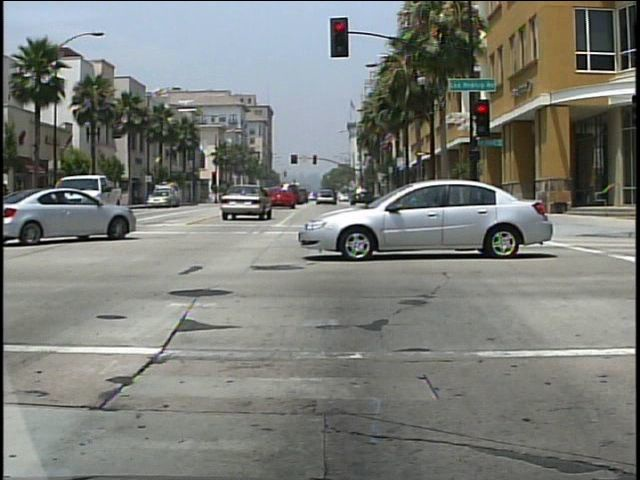person: (2, 174, 20, 228)
